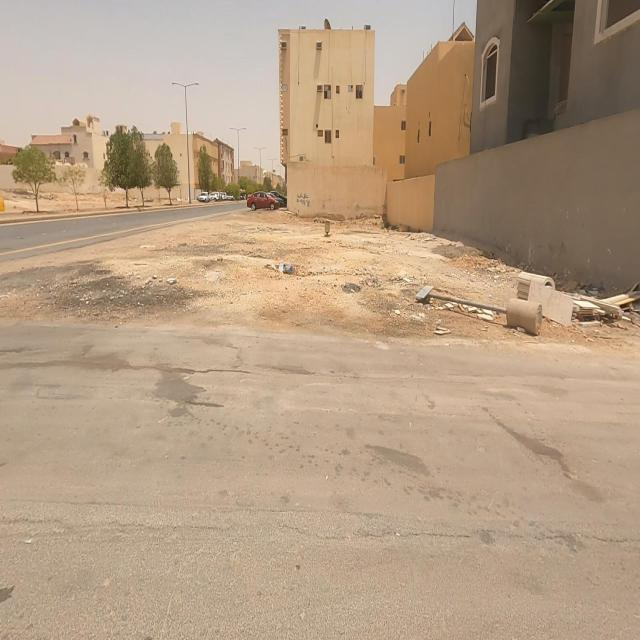Graffiti: (297, 193, 311, 209)
